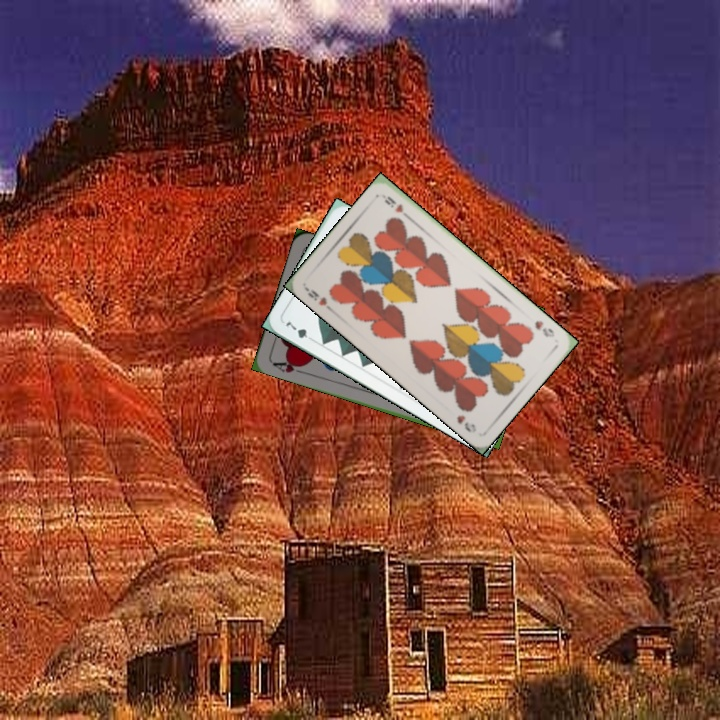G7: (280, 317, 318, 344)
H9: (302, 283, 336, 314), (531, 316, 557, 340)
HA: (269, 355, 308, 377)
